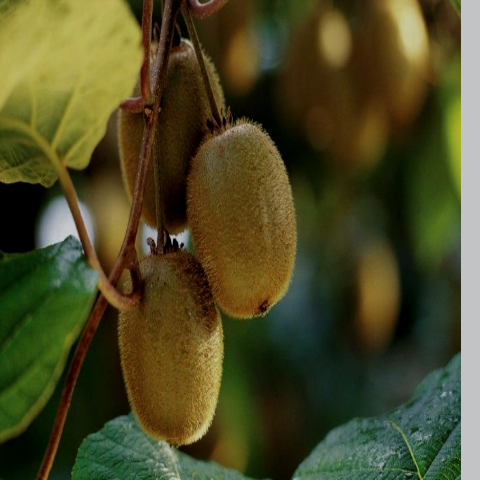kiwi: (109, 229, 241, 449), (119, 29, 235, 250), (183, 114, 306, 320)
